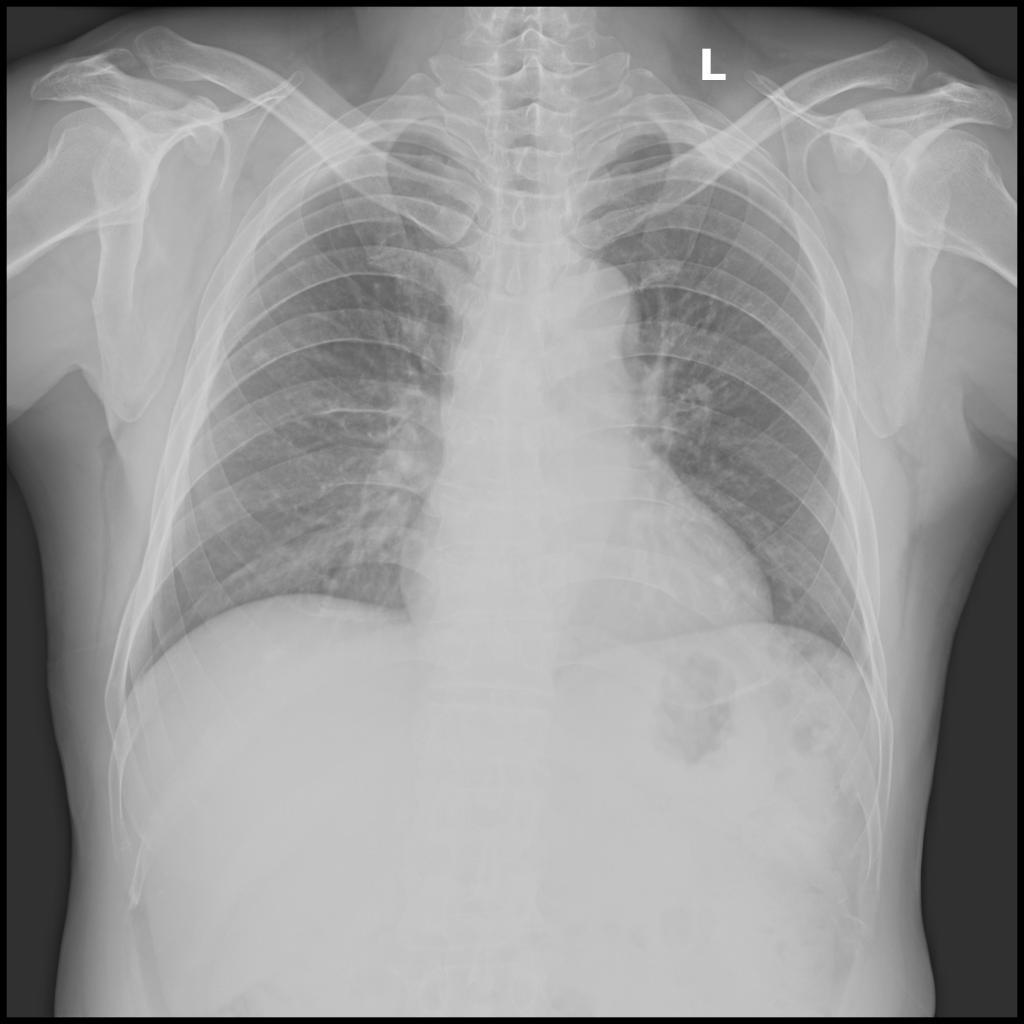Nodule: (249, 345, 272, 366)
